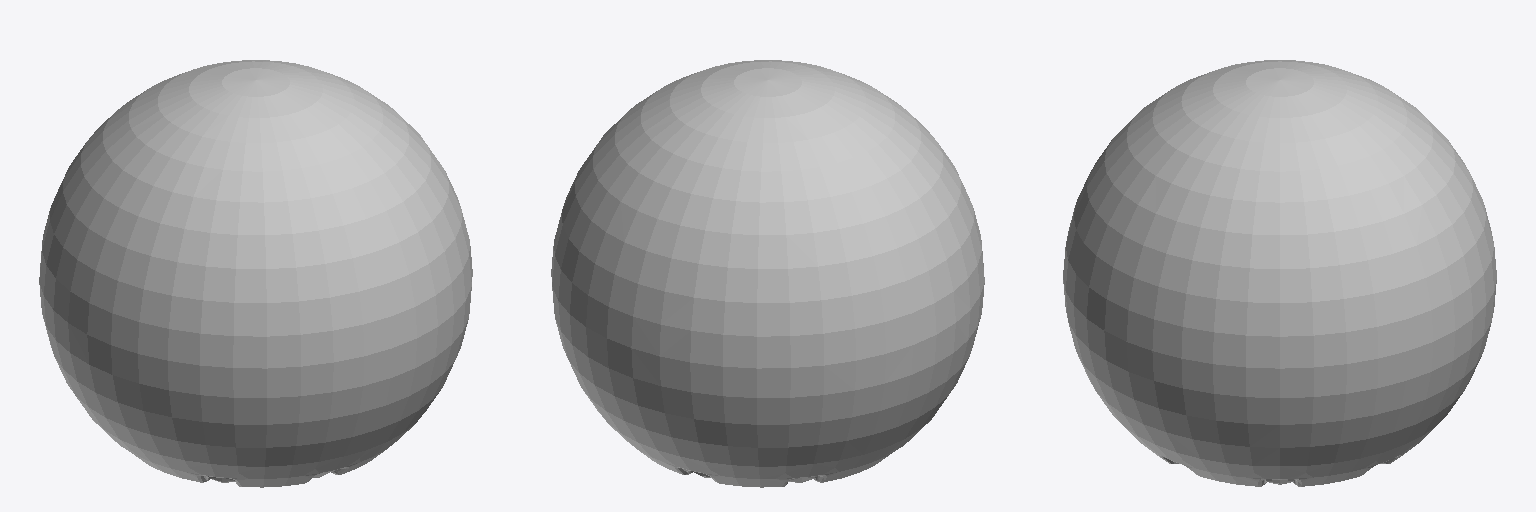
3 views of the same model, side by side, from view 1: azimuth 30°, elevation 25°; view 2: azimuth 150°, elevation 25°; view 3: azimuth 270°, elevation 25° (orthographic).
Visible parts, largest first — view 1: Nor_EngineCore_01; view 2: Nor_EngineCore_01; view 3: Nor_EngineCore_01.
Boxes of the visible parts, box(x1,y1,x2,y2) form: Nor_EngineCore_01: box(39, 60, 472, 487); Nor_EngineCore_01: box(551, 60, 984, 487); Nor_EngineCore_01: box(1063, 60, 1496, 486).
Size of the model in its own units: 1 by 0.8936 by 1.